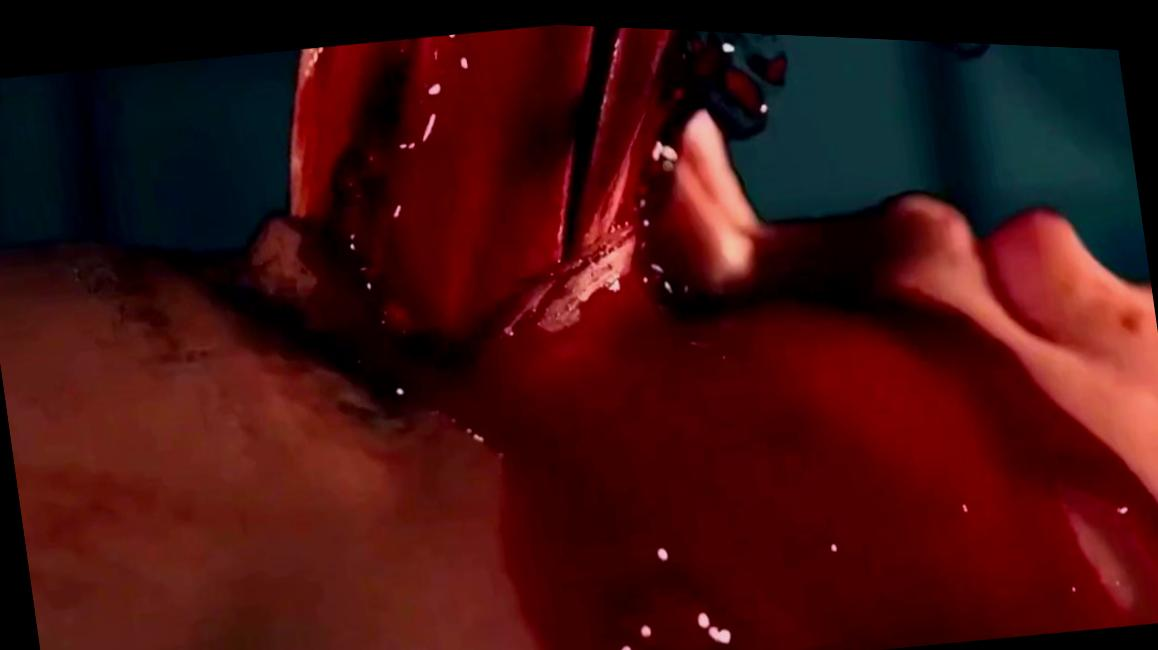Fire: (288, 19, 1158, 650)
